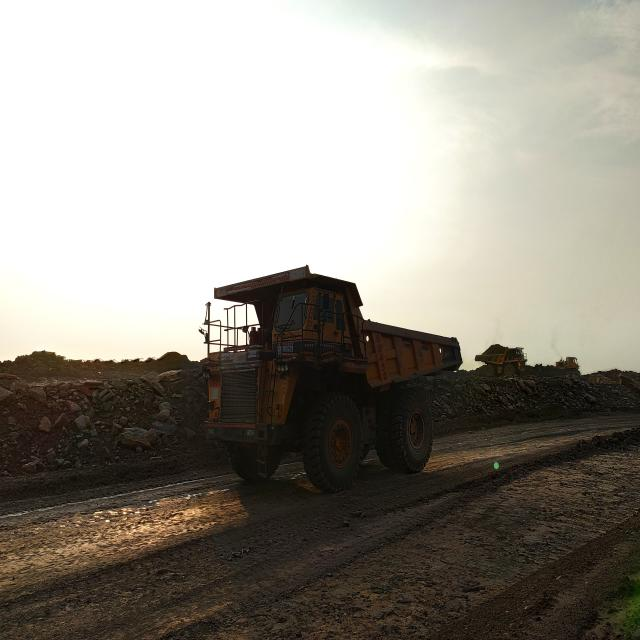buldozerpayloadergrader: (555, 357, 580, 375)
dump_truck: (200, 267, 462, 492), (475, 345, 526, 375)
